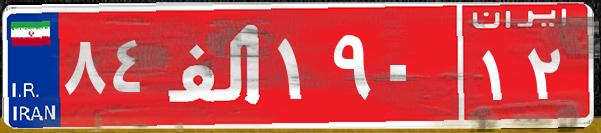0: (385, 28, 445, 110)
1: (273, 28, 330, 110), (475, 38, 525, 113)
2: (525, 38, 570, 115)
4: (110, 28, 158, 105)
8: (57, 26, 110, 107)
9: (330, 28, 385, 110)
الف: (158, 15, 273, 115)
